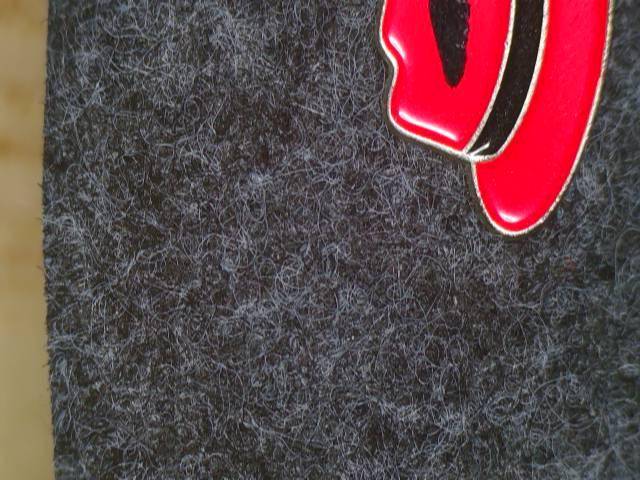Red-Hat: (326, 0, 634, 280)
Scratch: (413, 0, 485, 99)
